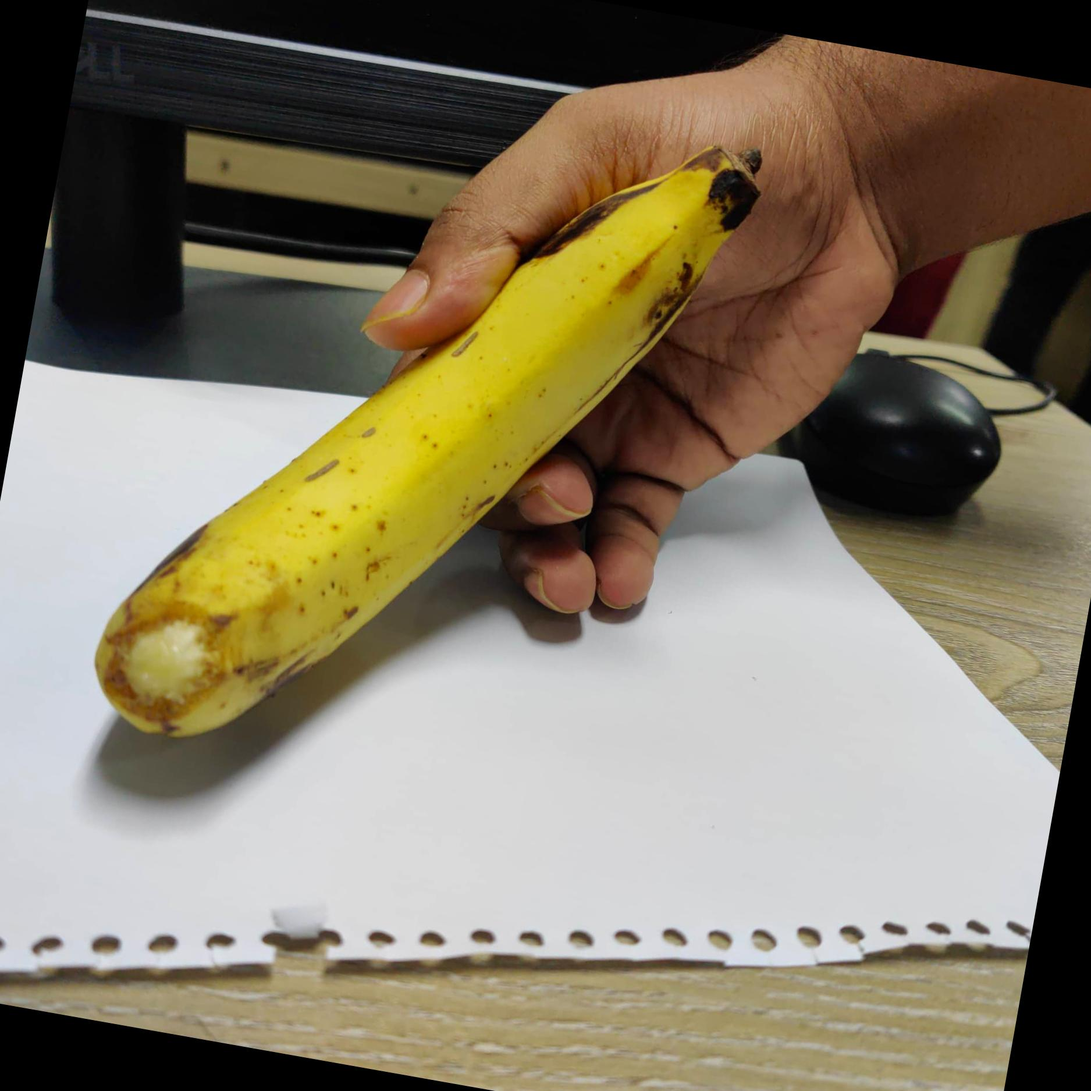Banana Ripe: (45, 37, 882, 908)
